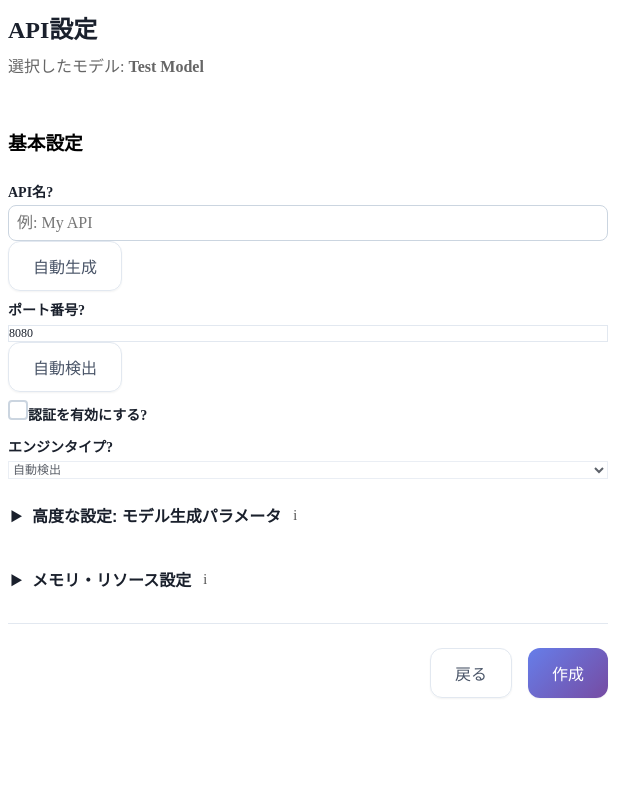
Test: ApiConfigForm.tsx › バリデーション › ポート番号が範囲外の場合、エラーメッセージを表示する
Replace the text in the number field labelled "ポート番号 ?" with "100". click: (308, 334)
box: [8,325,608,342]
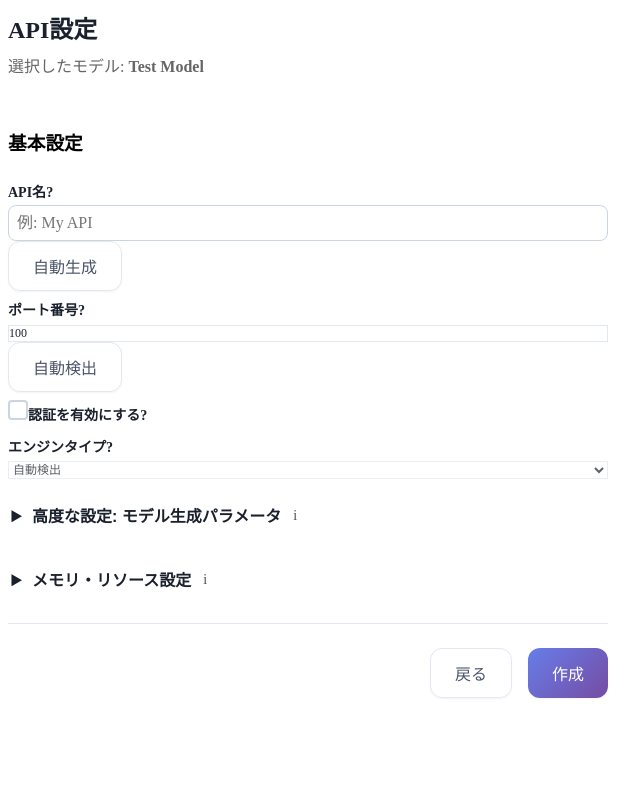
Click the button "作成". click: (568, 673)
box: [528,648,608,698]
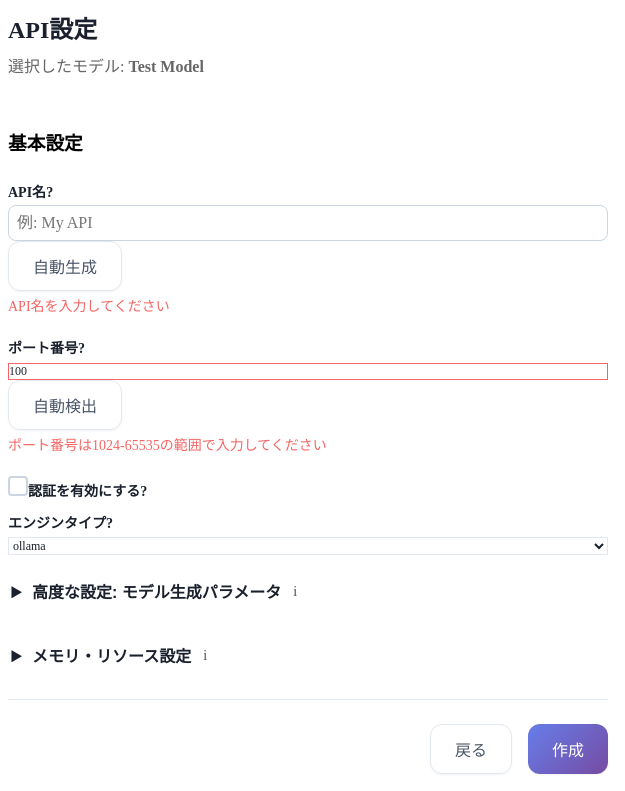
Check: the text "ポート番号は1024-65535の範囲で入力してください" is shown, box [8,438,327,453]
